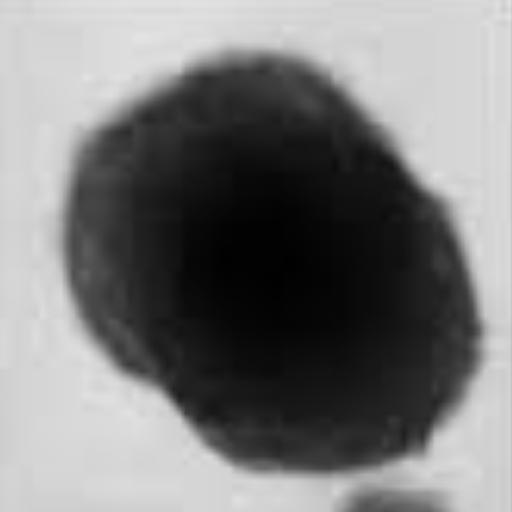BFU-E: (66, 54, 477, 473)
